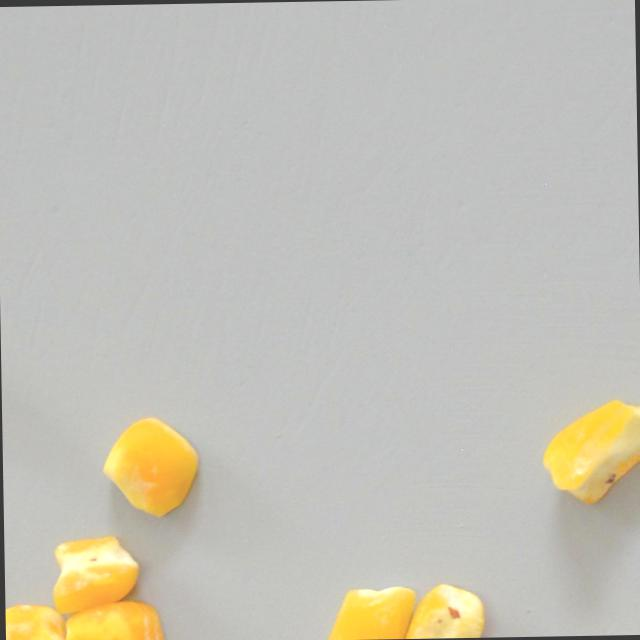dañado: (536, 397, 640, 508), (99, 414, 204, 521), (387, 578, 489, 639), (316, 581, 418, 640), (60, 598, 172, 640), (5, 601, 74, 640)
punto_negro: (48, 529, 144, 616)
